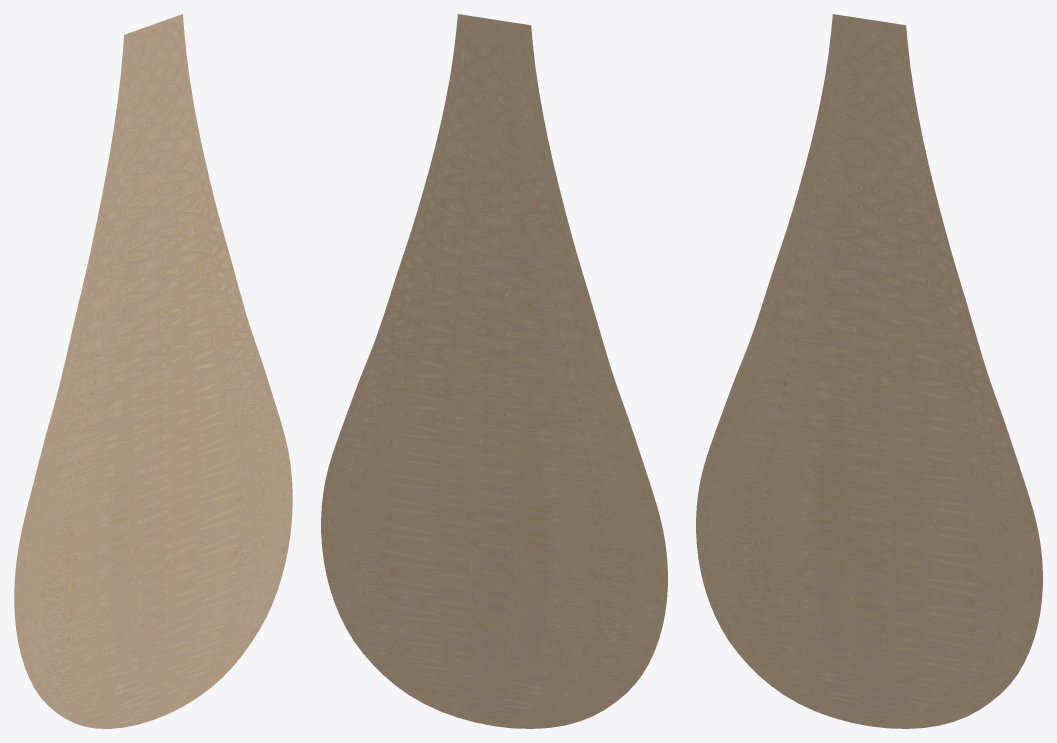
The picture shows the model from 3 angles, left to right: view 1: azimuth 30°, elevation 25°; view 2: azimuth 150°, elevation 25°; view 3: azimuth 330°, elevation 25°; orthographic projection.
Visible parts, largest first — view 1: 面板; view 2: 面板; view 3: 面板.
Part boxes in pixels (bbox=[...]): 面板: bbox=[14, 14, 292, 728]; 面板: bbox=[321, 14, 667, 728]; 面板: bbox=[696, 14, 1042, 728].
Size of the model in its own units: 245 by 525 by 43.18.
Materials: 1 (1 with a texture image).
